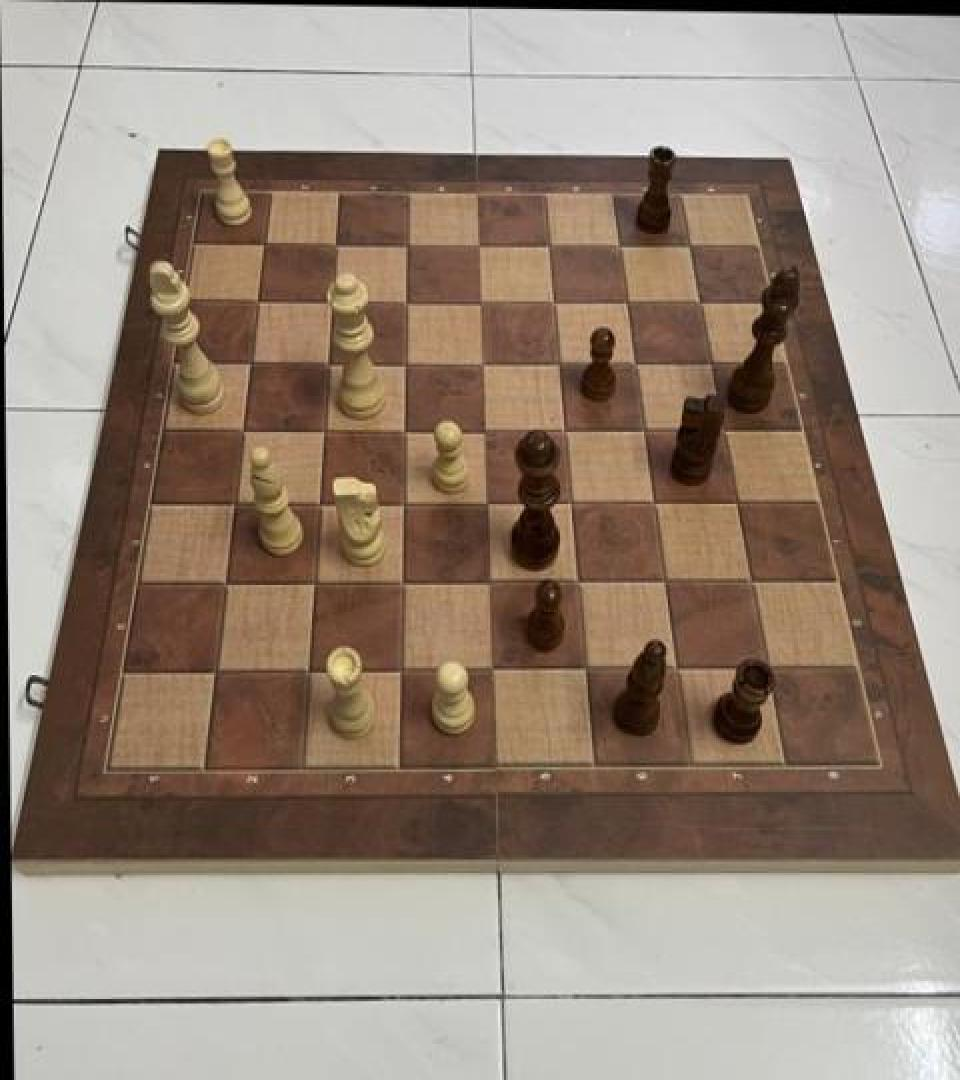xcorner: (198, 652, 230, 689), (673, 226, 705, 262), (603, 225, 635, 261), (532, 225, 564, 261), (460, 225, 492, 261), (389, 225, 421, 261), (317, 225, 349, 261), (245, 225, 277, 261), (683, 282, 715, 318), (610, 282, 642, 318), (536, 282, 568, 318), (462, 282, 494, 318), (388, 282, 420, 318), (314, 282, 346, 318), (239, 282, 271, 318), (694, 344, 726, 380), (618, 344, 650, 380), (542, 344, 574, 380), (465, 344, 497, 380), (387, 344, 419, 380), (310, 344, 342, 380), (232, 344, 264, 380), (706, 410, 738, 446), (627, 410, 659, 446), (547, 410, 579, 446), (467, 410, 499, 446), (387, 410, 419, 446), (306, 412, 338, 448), (225, 412, 257, 448), (719, 482, 751, 518), (636, 482, 668, 518), (553, 484, 585, 520), (470, 484, 502, 520), (386, 484, 418, 520), (301, 485, 333, 521), (217, 485, 249, 521), (734, 562, 766, 598), (647, 562, 679, 598), (560, 562, 592, 598), (472, 564, 504, 600), (385, 564, 417, 600), (296, 565, 328, 601), (208, 565, 240, 601), (749, 648, 781, 684), (658, 649, 690, 685), (567, 649, 599, 685), (475, 650, 507, 686), (383, 652, 415, 688), (291, 652, 323, 688)
